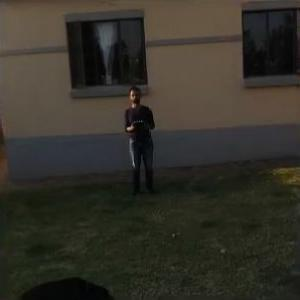follow: (123, 86, 161, 208)
